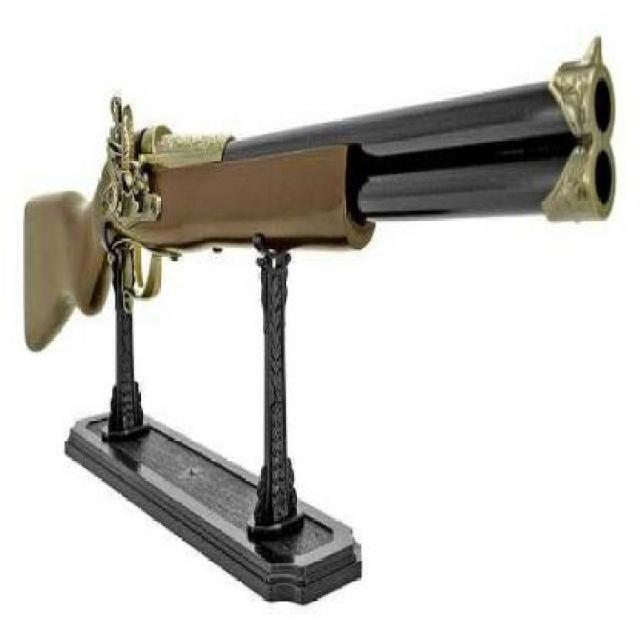weapon: (23, 59, 614, 328)
